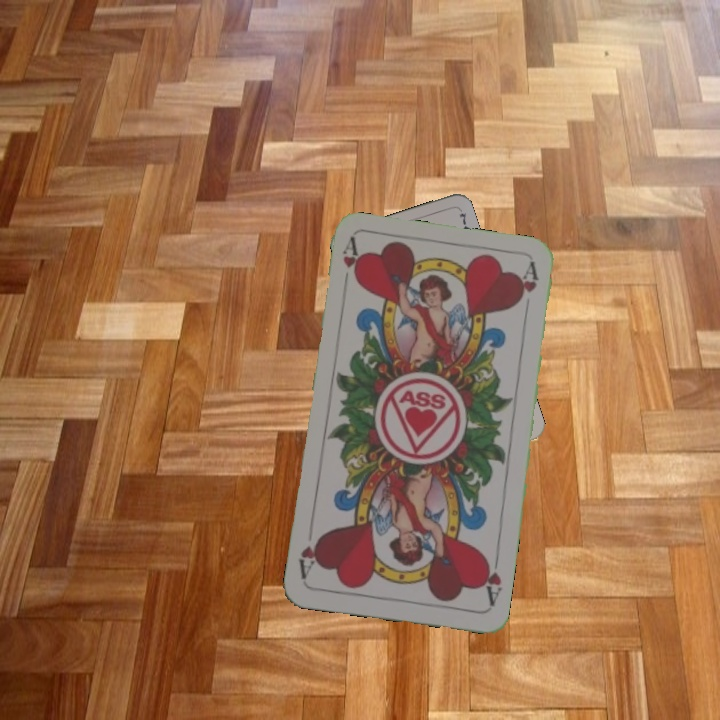HA: (477, 549, 504, 609), (338, 236, 363, 294)
